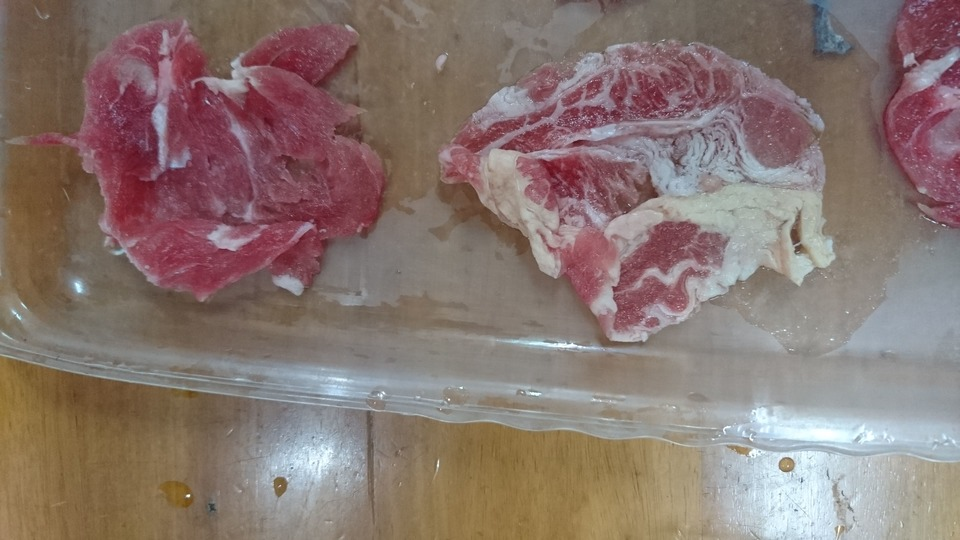restructured meat: (445, 38, 845, 322), (68, 26, 402, 308)
